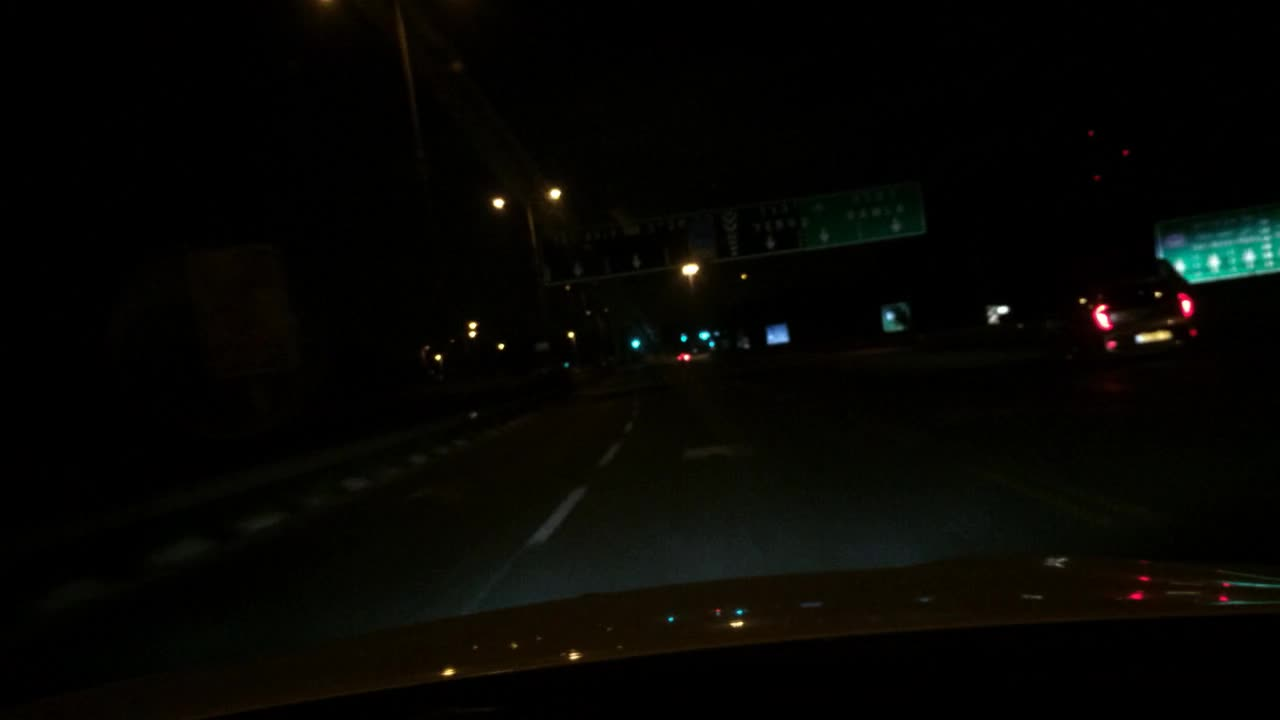car: (1013, 255, 1200, 379), (674, 351, 692, 363)
traffic light: (699, 327, 711, 342), (630, 336, 641, 349), (681, 328, 690, 343), (708, 339, 718, 352)
traffic sign: (536, 180, 927, 287), (1151, 212, 1280, 284)
